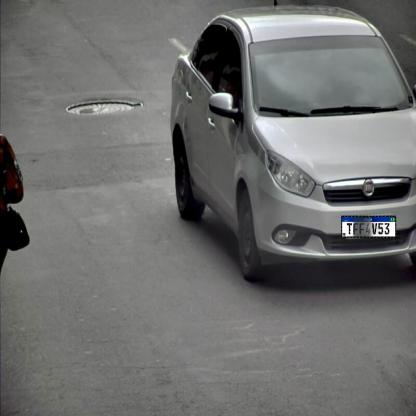PlacaM: (341, 216, 396, 238)
